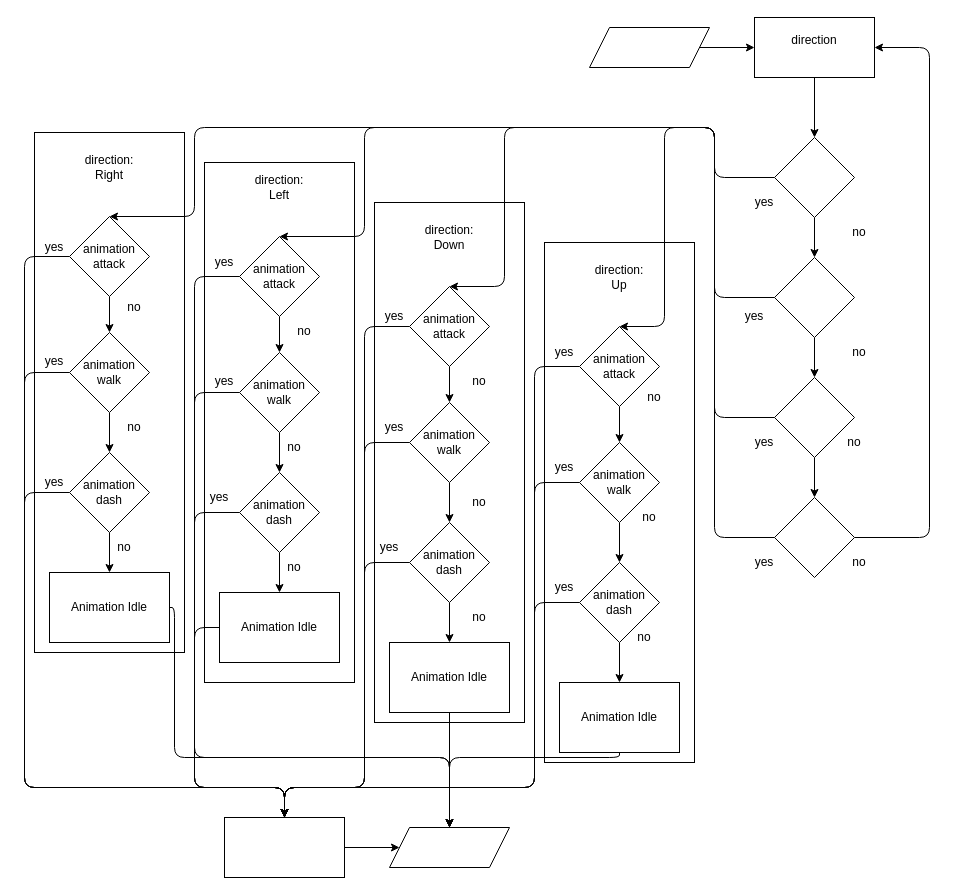
The diagram is 955 pixels wide and 895 high, and some of its shapes have lost their labels. The box of each missing label's shape, as (x1, y1, x2, y2) in pixels:
End: (388, 826, 510, 868)
looking down: (774, 256, 854, 338)
looking left: (774, 376, 854, 458)
looking right: (774, 136, 854, 218)
looking up: (774, 496, 854, 578)
Play animation with state, and direction.: (224, 816, 344, 878)
Start: (588, 26, 710, 68)
